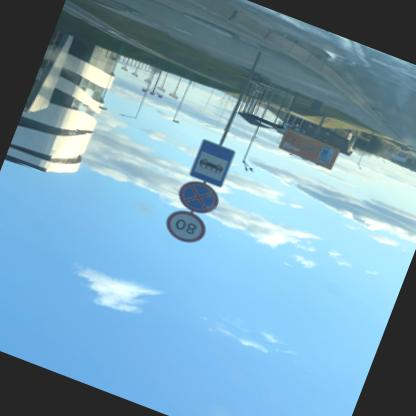speedlimit: (162, 207, 212, 250)
